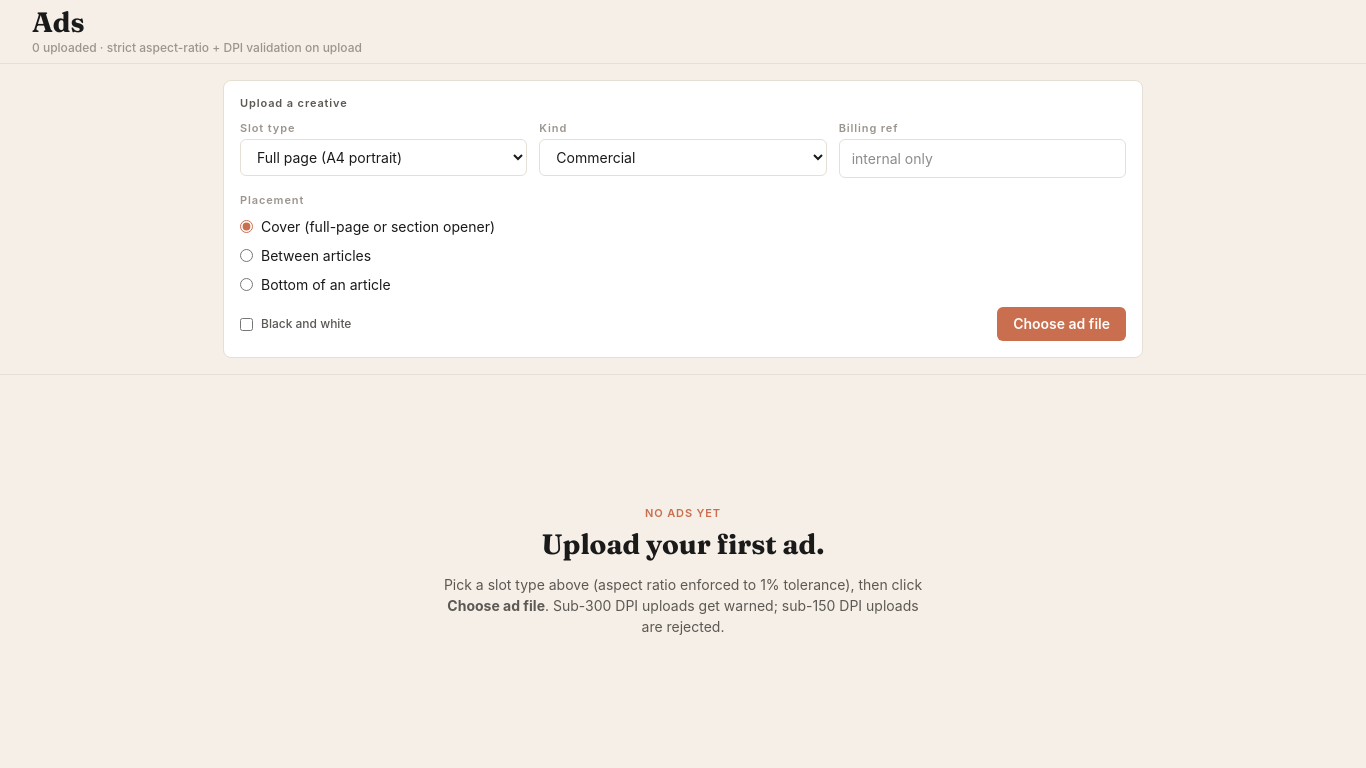
Test: AdsScreen radio + article picker › selecting Between articles reveals the article picker
Click the radio button with test id "ad-placement-between".
click(246, 255)  # box [240,249,253,262]
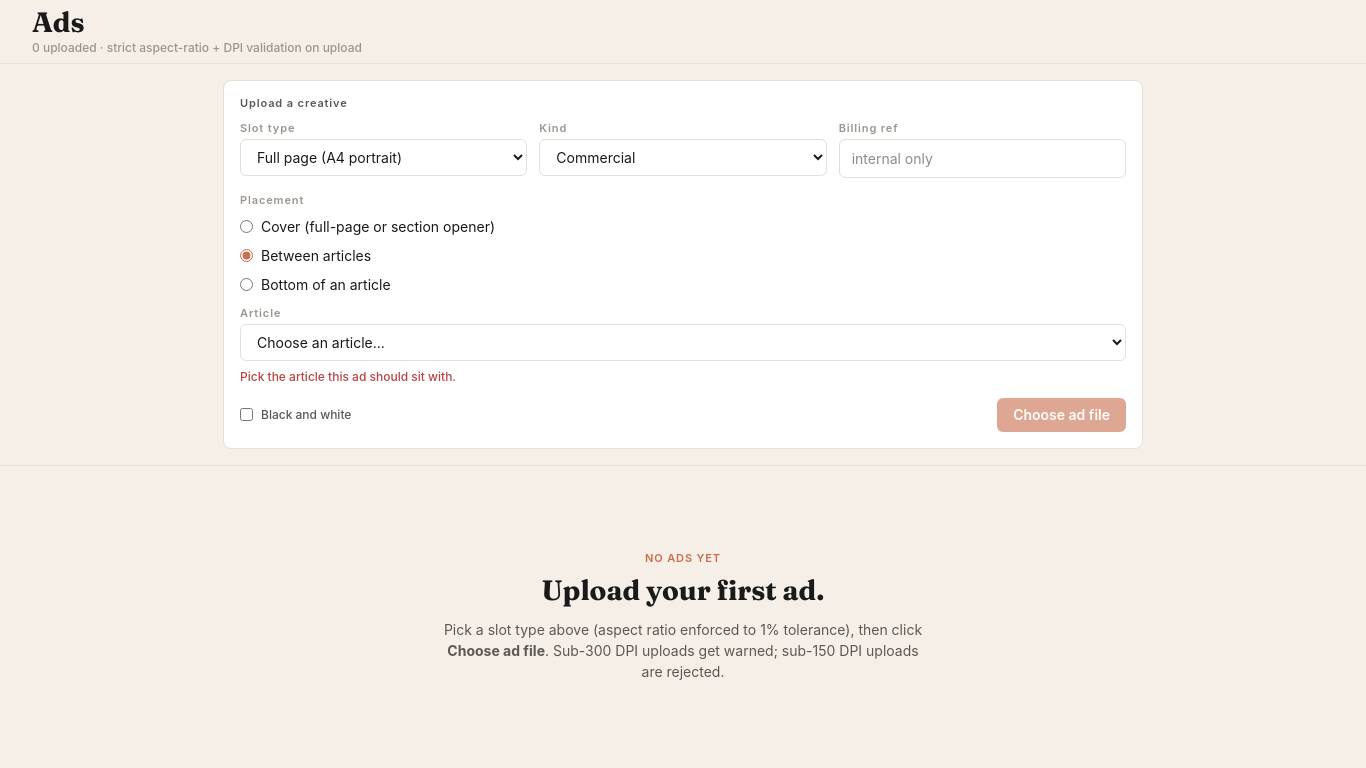
Result: the dropdown with test id "ad-placement-article" is shown at [240,324,1126,361]
